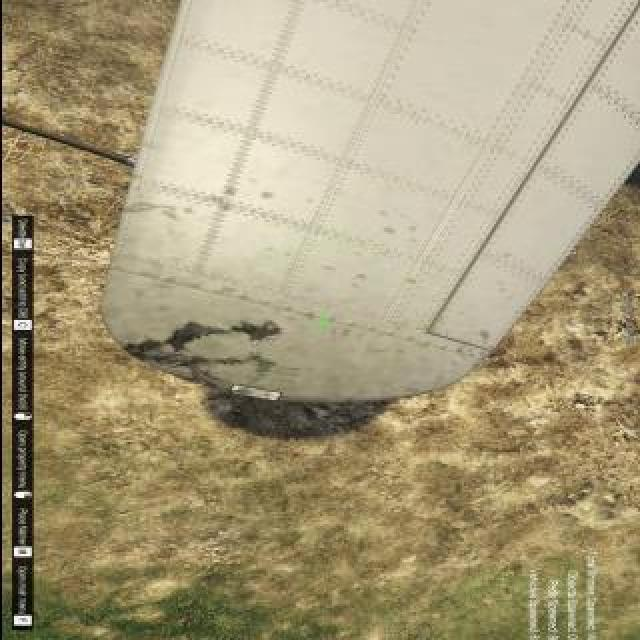dent: (124, 340, 192, 369), (162, 323, 221, 351), (202, 355, 274, 376), (227, 325, 283, 346), (191, 362, 225, 390)
